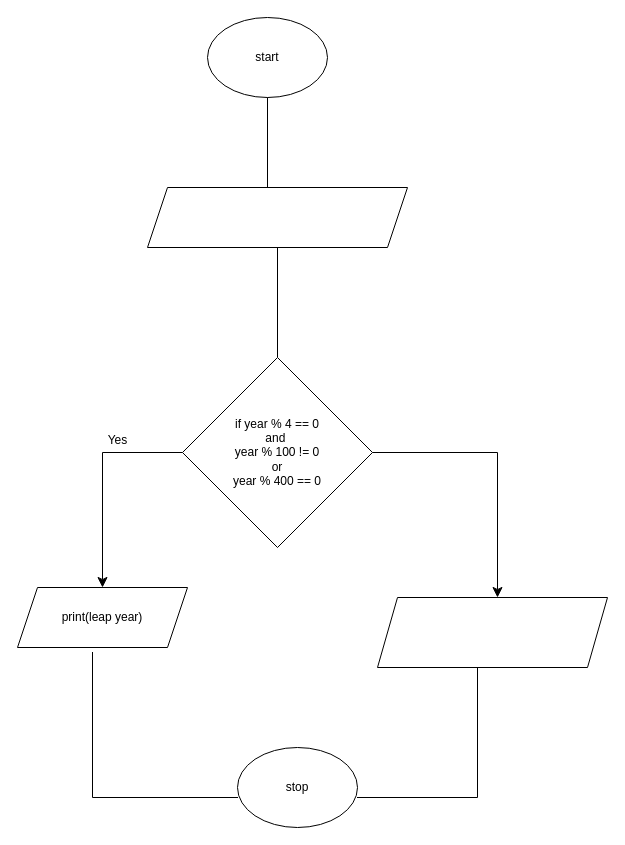
This 625x845 diagram has some shape labels left out. The centre of each missing label's shape, as x and y in pixels:
input year to check leap year: point (277, 217)
print(Year is not a leap year: point (492, 632)
